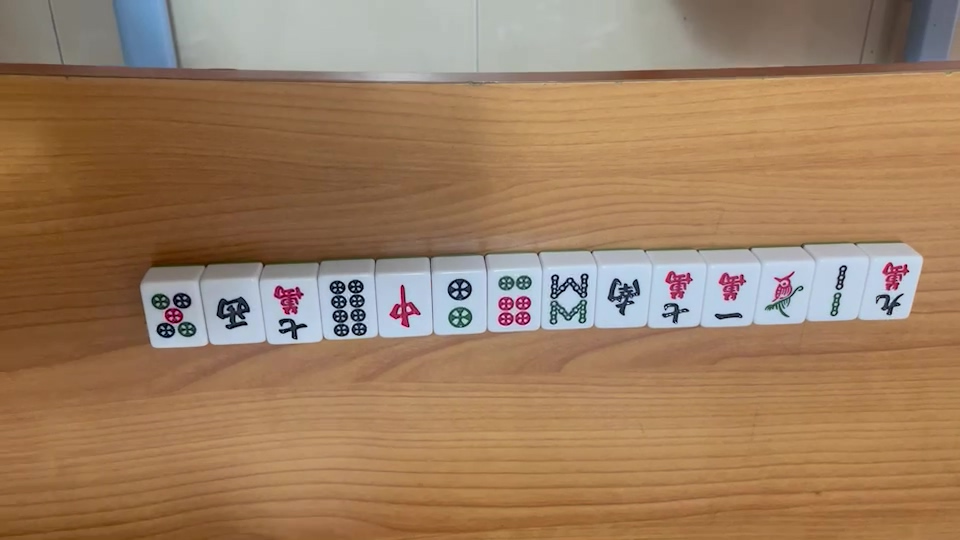b-1: (758, 269, 807, 323)
b-2: (824, 259, 856, 316)
b-8: (545, 269, 592, 326)
c-1: (710, 270, 748, 324)
c-7: (271, 284, 309, 343), (657, 269, 694, 325)
c-9: (872, 261, 909, 315)
d-2: (441, 277, 469, 331)
d-5: (148, 290, 199, 343)
d-6: (496, 274, 531, 326)
d-8: (327, 279, 369, 338)
honors-red: (386, 282, 420, 330)
honors-south: (606, 277, 642, 317)
honors-west: (215, 294, 253, 335)
